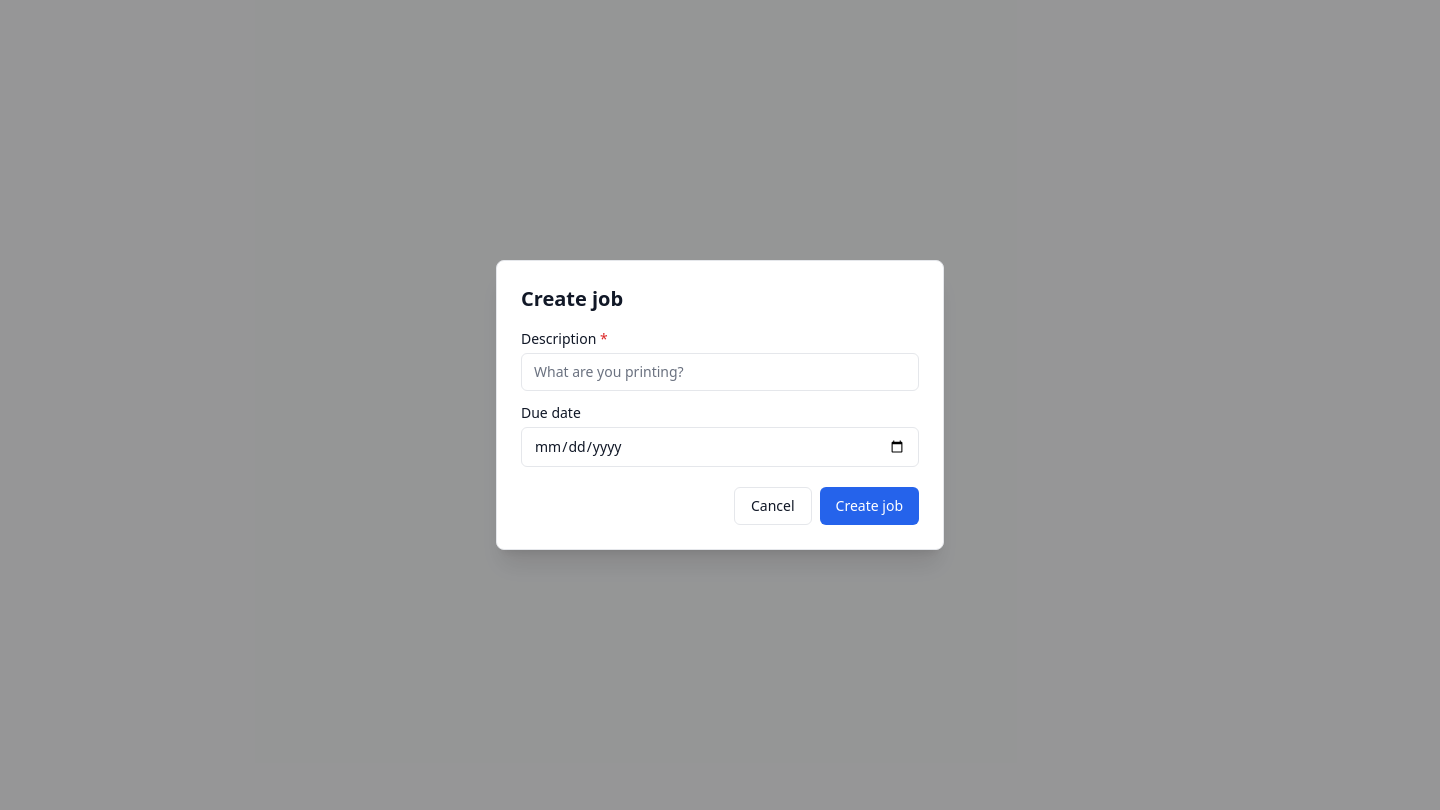
CreateJobDialog › rejects a blank description
Click the button "Create job".
click(869, 506)  # box x1=820 y1=487 x2=919 y2=525
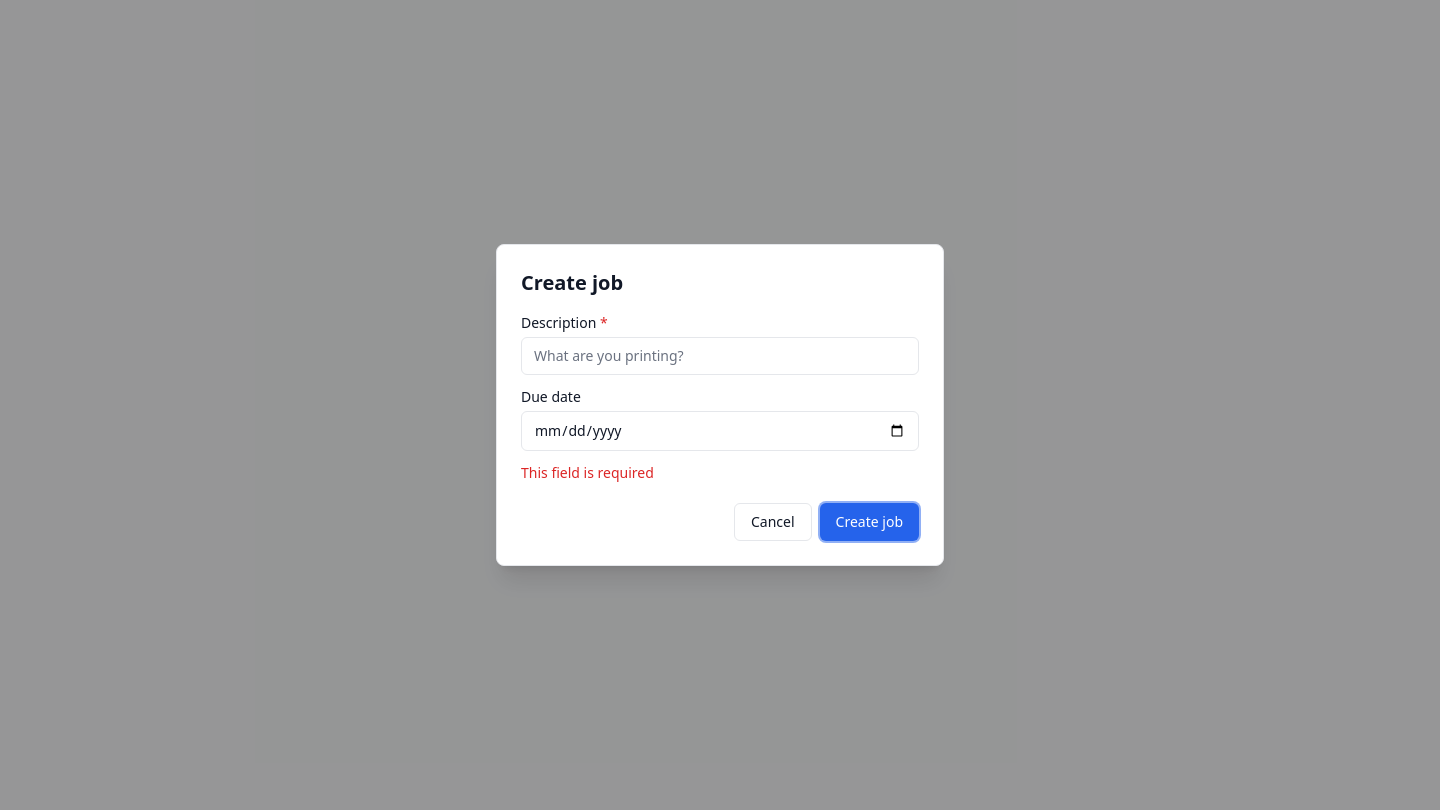
Check: the message reads "This field is required", box x1=521 y1=463 x2=654 y2=482
